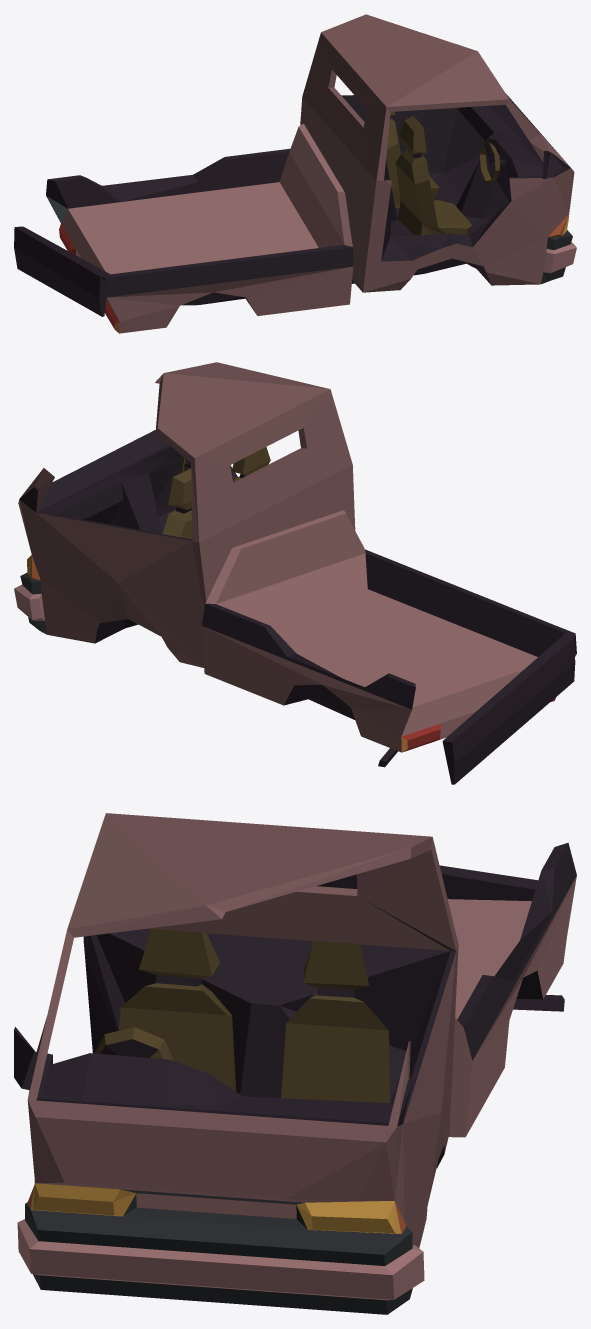
File: autos_destruidos2.fbx
3 renders of one model, top to bottom at view 1: azimuth 30°, elevation 25°; view 2: azimuth 150°, elevation 25°; view 3: azimuth 270°, elevation 25°, orthographic. The views are drawn at different scales.
Visible parts, largest first — view 1: car 3./2.RC; view 2: car 3./2.RC; view 3: car 3./2.RC.
Boxes of the visible parts, <box> form: car 3./2.RC: <box>14,14,576,333</box>; car 3./2.RC: <box>14,362,576,784</box>; car 3./2.RC: <box>14,813,576,1314</box>.
Bounding box in the file's own units: 7237 × 3233 × 4450.
1 material, 1 textured.
